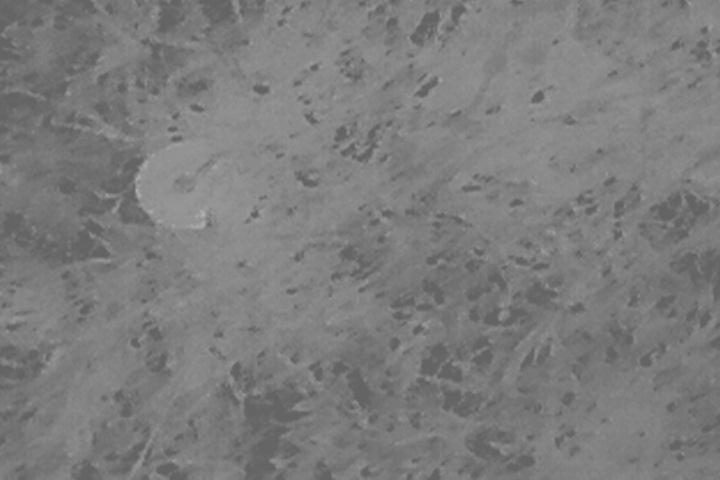landmine: (131, 137, 246, 232)
